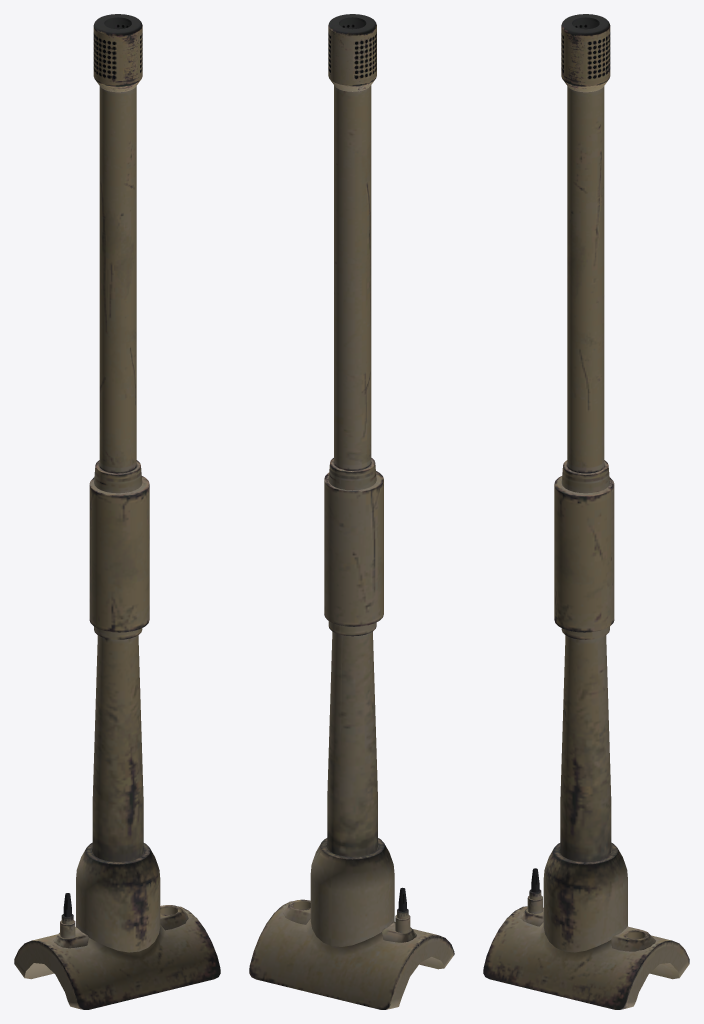
The model's file is Gun_01.glb.
3 views of the same model, side by side, from view 1: azimuth 30°, elevation 25°; view 2: azimuth 150°, elevation 25°; view 3: azimuth 330°, elevation 25° (orthographic).
Parts seen in each view (by area): view 1: set_0_group_0; view 2: set_0_group_0; view 3: set_0_group_0.
Part boxes in pixels (x1,y1,x2,y2): set_0_group_0: [14, 14, 220, 1009]; set_0_group_0: [249, 14, 454, 1009]; set_0_group_0: [483, 14, 689, 1009].
Size of the model in its own units: 0.68 by 4.38 by 0.5634.
1 material, 1 textured.
